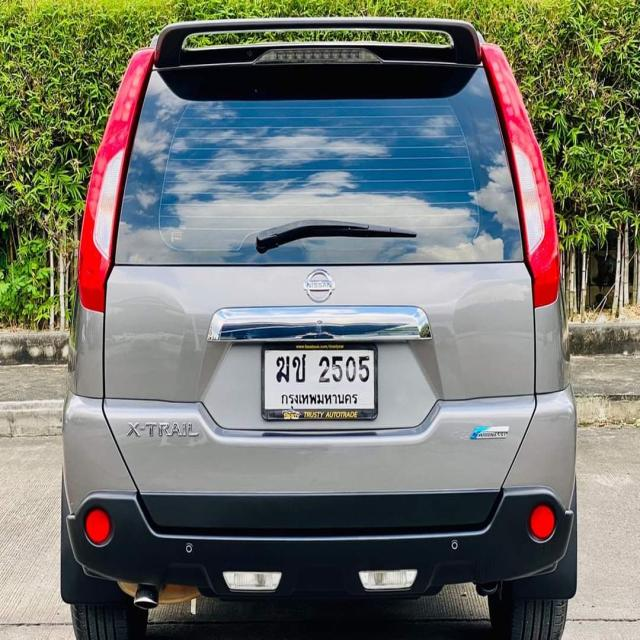license_plate: (259, 341, 379, 425)
